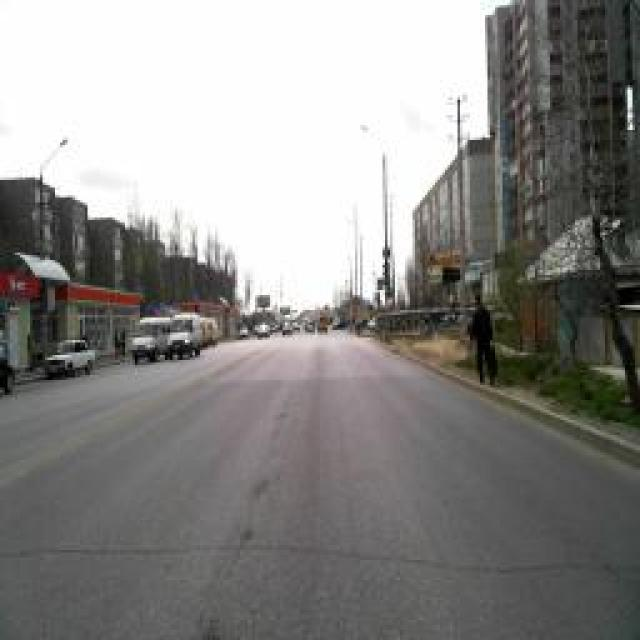sign: (382, 246, 390, 262)
